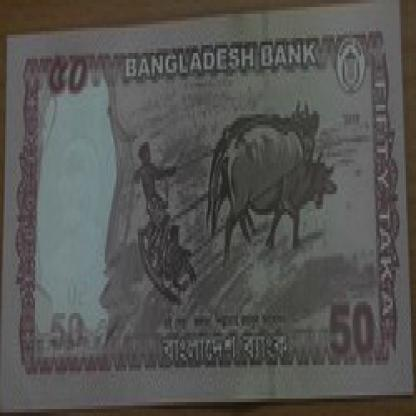Fifty taka: (314, 295, 400, 381), (43, 52, 108, 111)
